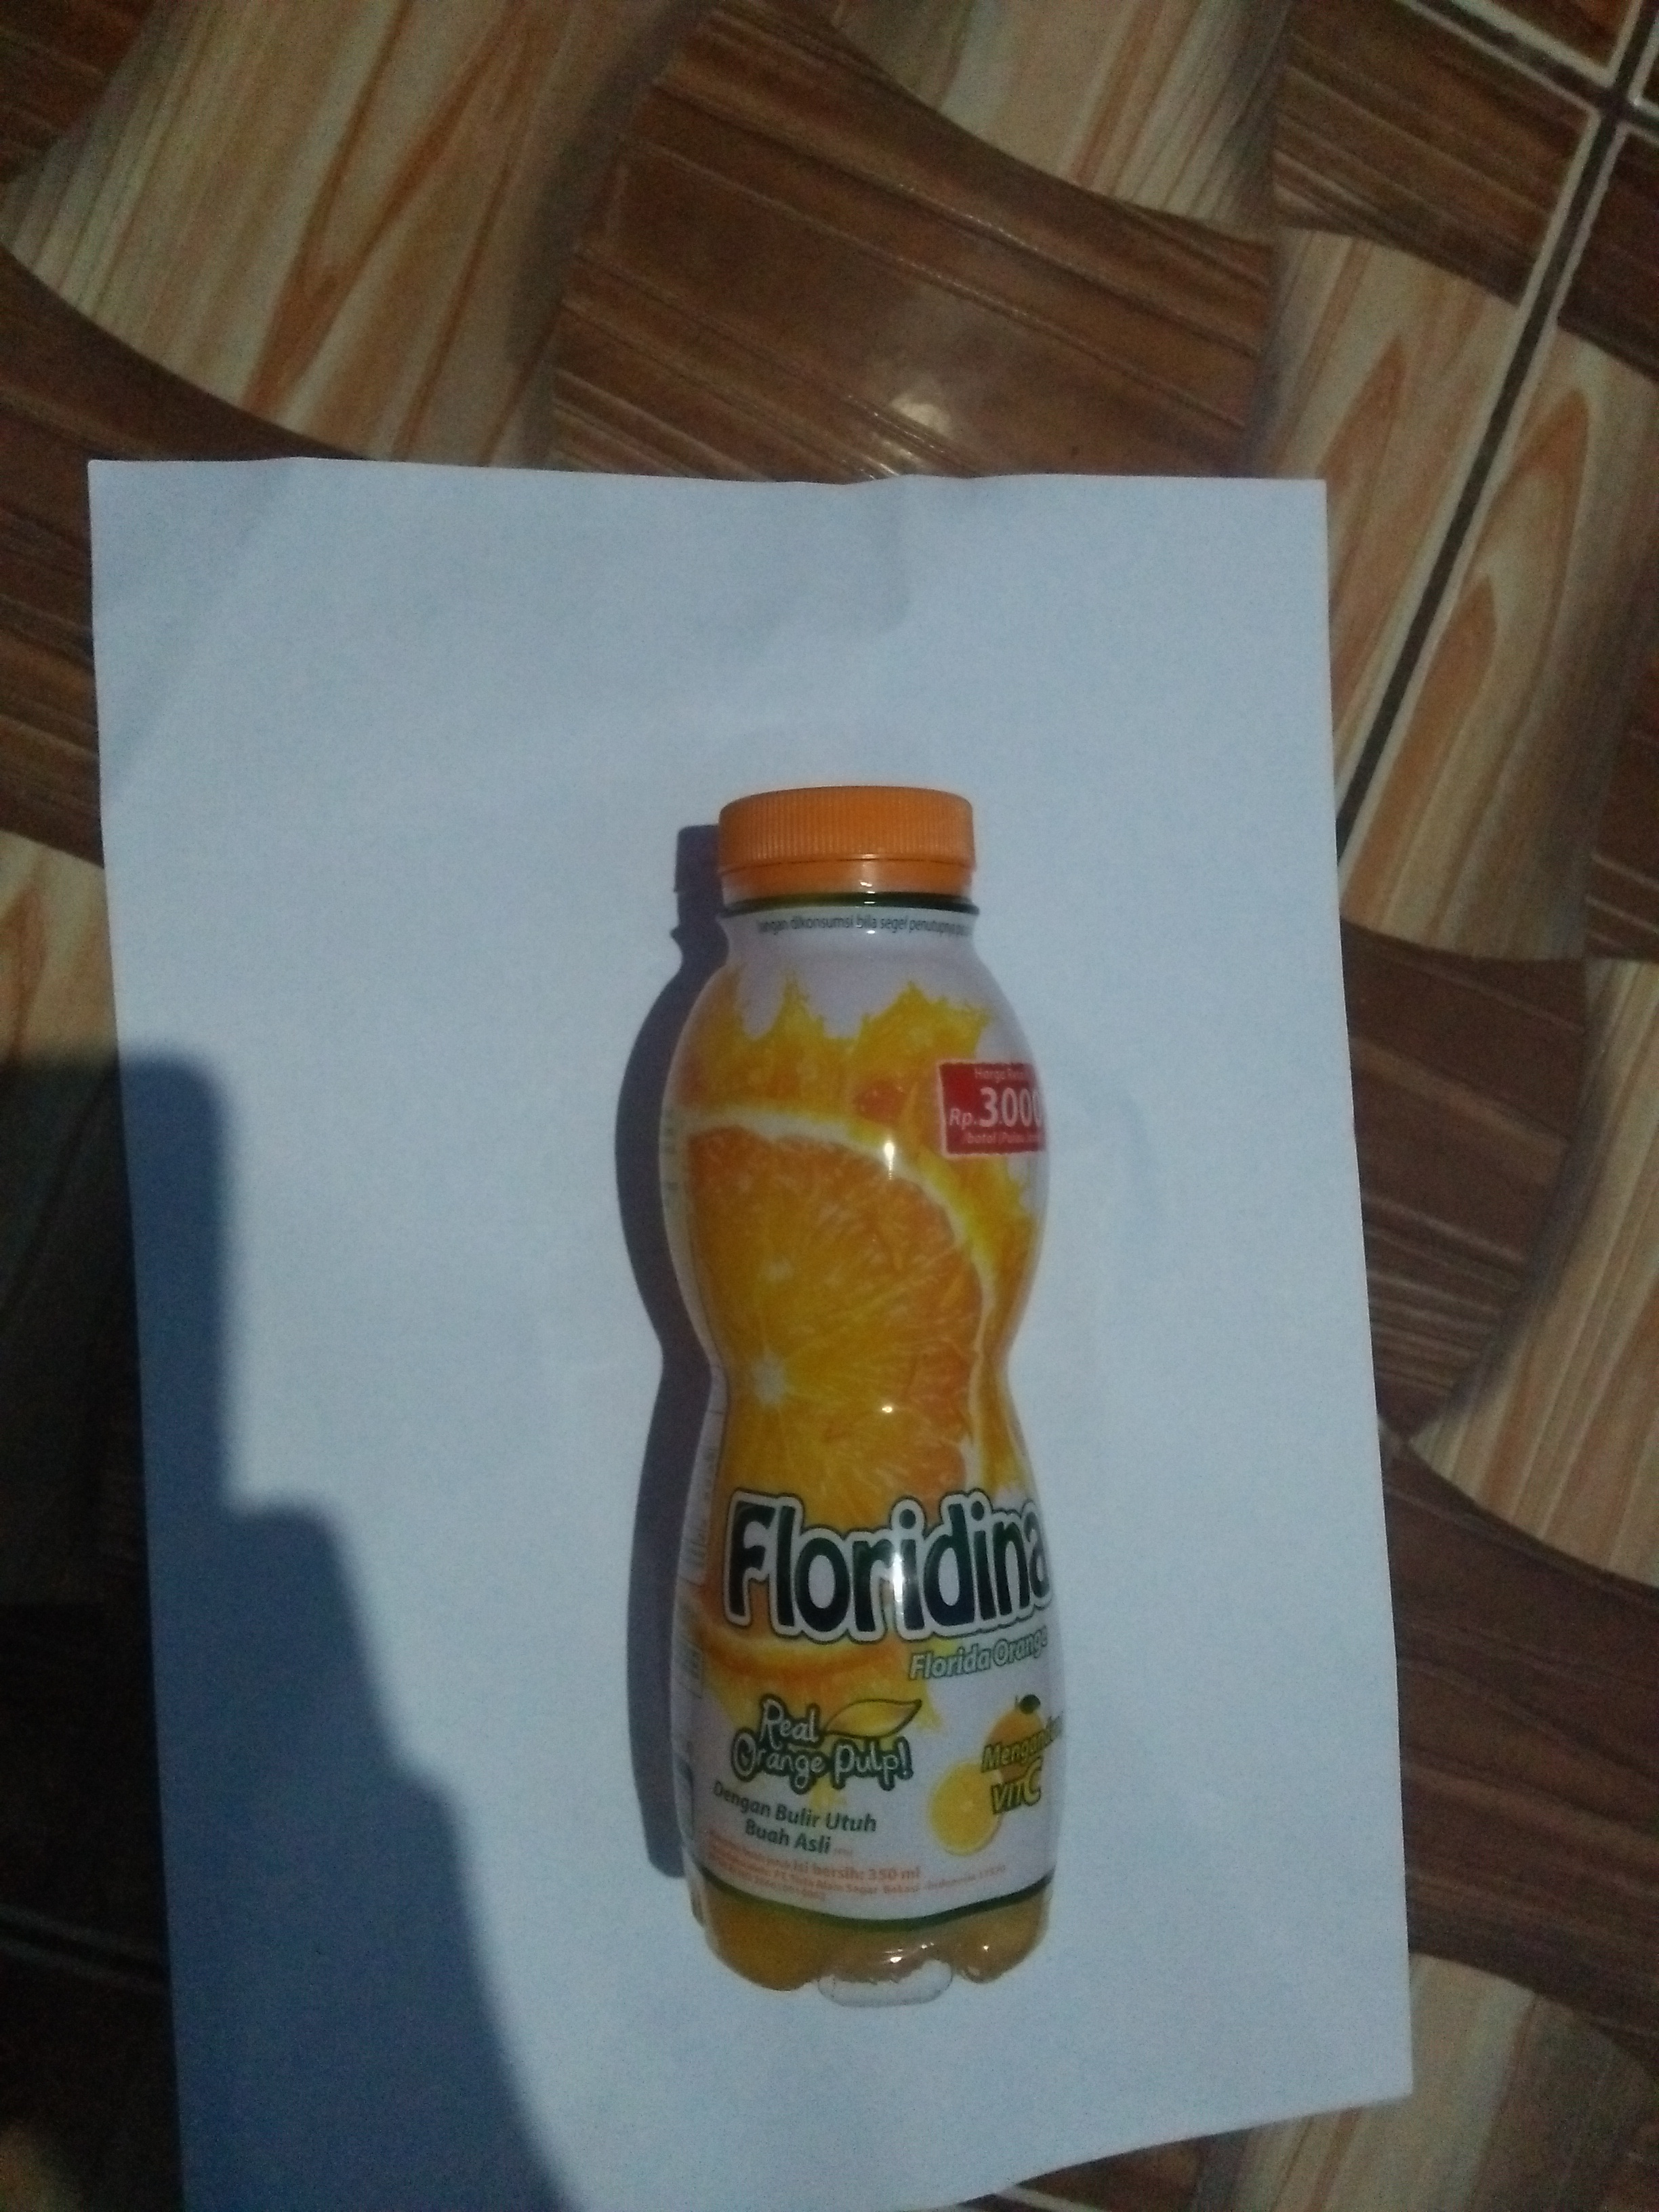Floridina: (647, 770, 1098, 2010)
